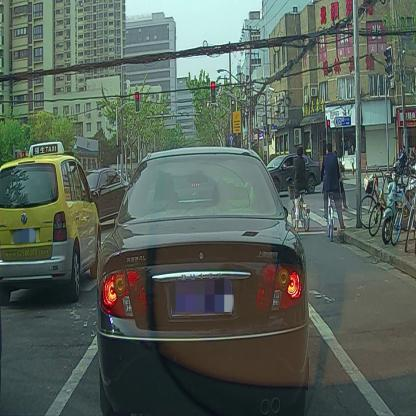Red Light: (211, 80, 216, 105), (135, 91, 140, 114)
